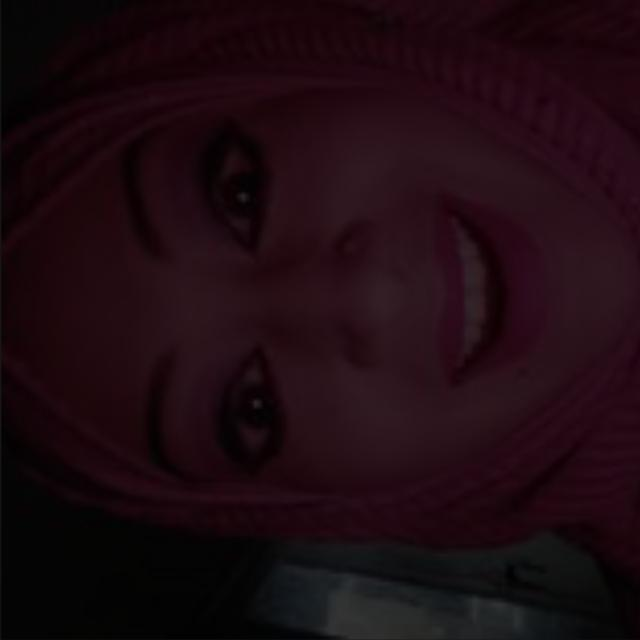Surprised: (53, 37, 579, 590)
